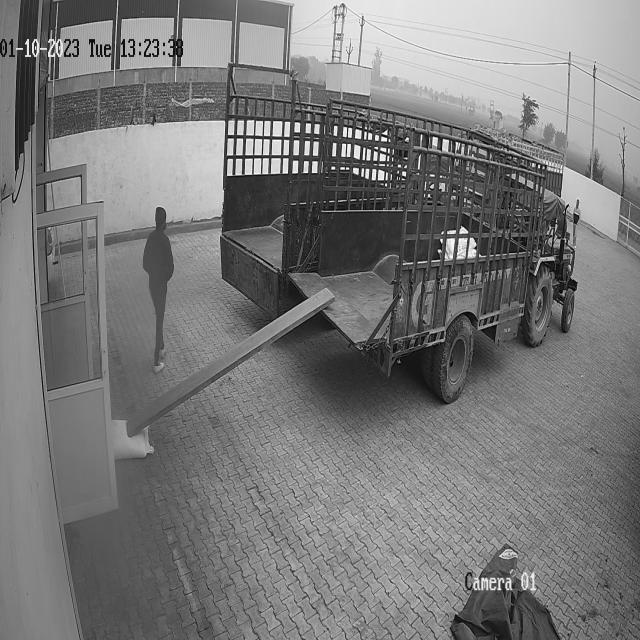sack: (112, 418, 153, 461)
